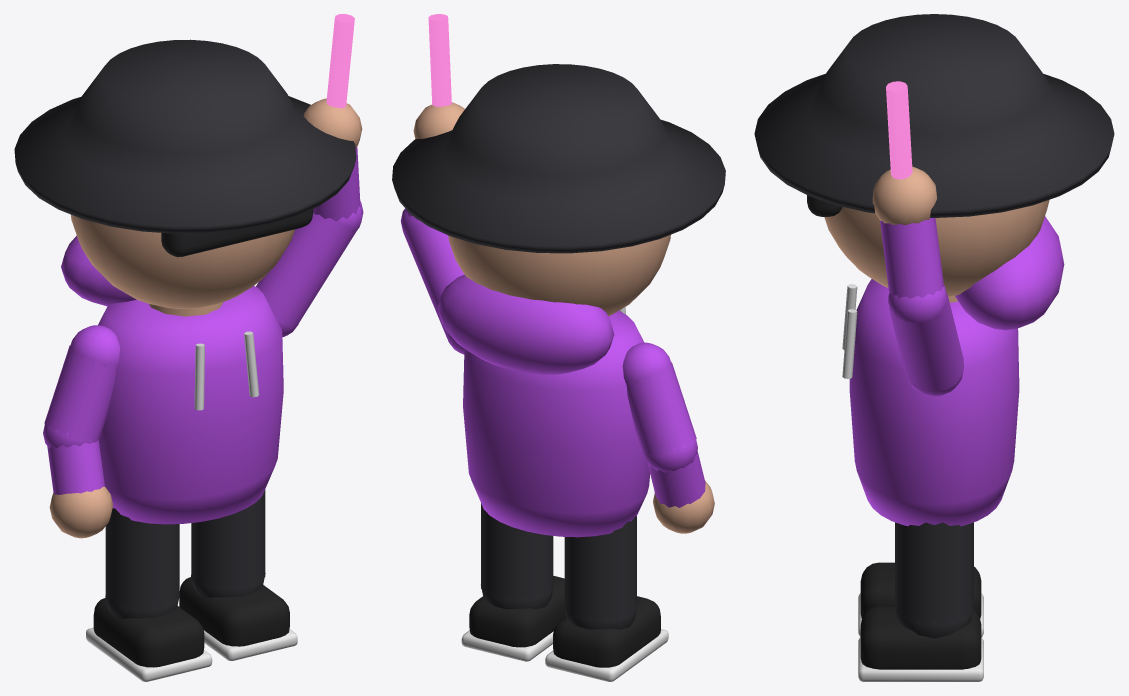
Rendered from club_fig_raver.glb.
3 renders of one model, left to right at view 1: azimuth 30°, elevation 25°; view 2: azimuth 150°, elevation 25°; view 3: azimuth 270°, elevation 25°, orthographic. The views are drawn at different scales.
Parts seen in each view (by area): view 1: FIG_raver_Cloth, FIG_raver_Accent, FIG_raver_Skin1, FIG_raver_Rubber, FIG_raver_White, FIG_raver_DustCap, FIG_raver_Glow; view 2: FIG_raver_Cloth, FIG_raver_Accent, FIG_raver_Skin1, FIG_raver_Rubber, FIG_raver_White, FIG_raver_Glow; view 3: FIG_raver_Cloth, FIG_raver_Accent, FIG_raver_Skin1, FIG_raver_Rubber, FIG_raver_White, FIG_raver_Glow.
Part boxes in pixels (x1,y1,x2,y2): FIG_raver_Cloth: (14, 39, 356, 618); FIG_raver_Accent: (43, 146, 363, 524); FIG_raver_Skin1: (49, 98, 362, 538); FIG_raver_Rubber: (93, 577, 289, 667); FIG_raver_White: (86, 331, 297, 681); FIG_raver_DustCap: (161, 209, 313, 257); FIG_raver_Glow: (326, 14, 354, 108); FIG_raver_Cloth: (392, 64, 725, 629); FIG_raver_Accent: (400, 208, 705, 537); FIG_raver_Skin1: (413, 102, 714, 533); FIG_raver_Rubber: (469, 576, 660, 667); FIG_raver_White: (461, 307, 668, 681); FIG_raver_Glow: (428, 14, 451, 106); FIG_raver_Cloth: (754, 14, 1114, 638); FIG_raver_Accent: (849, 216, 1064, 526); FIG_raver_Skin1: (824, 166, 1049, 302); FIG_raver_Rubber: (860, 562, 981, 669); FIG_raver_White: (842, 284, 983, 681); FIG_raver_Glow: (886, 81, 912, 179).
Size of the model in its own units: 0.456 by 0.8311 by 0.43.
